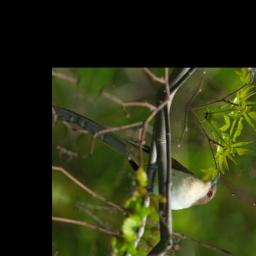Cuckoo: (63, 111, 224, 227)
